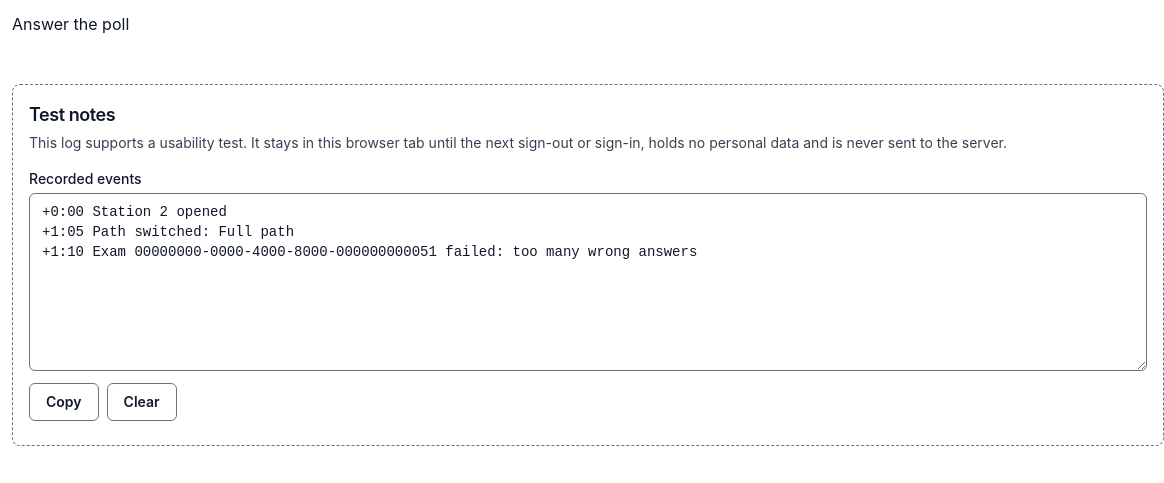
Test case: TestNotesPanel › clear empties the log and disables the buttons
Click the button "Clear". click: x=142, y=402
box: [107, 383, 177, 421]
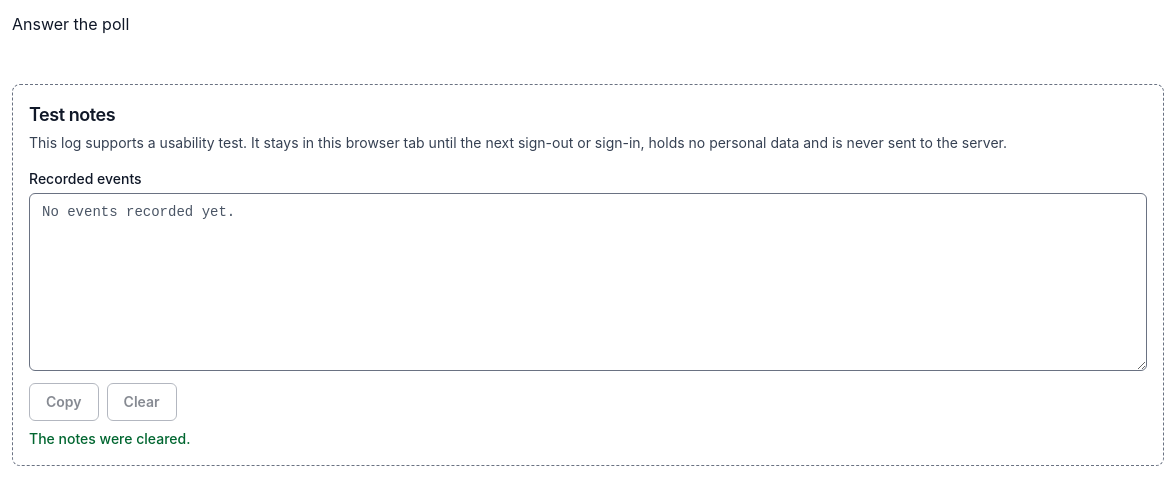
Expected: the text box labelled "Recorded events" is empty, [29, 193, 1147, 371]
Expected: the button "Copy" is disabled, [29, 383, 99, 421]
Expected: the button "Clear" is disabled, [107, 383, 177, 421]
